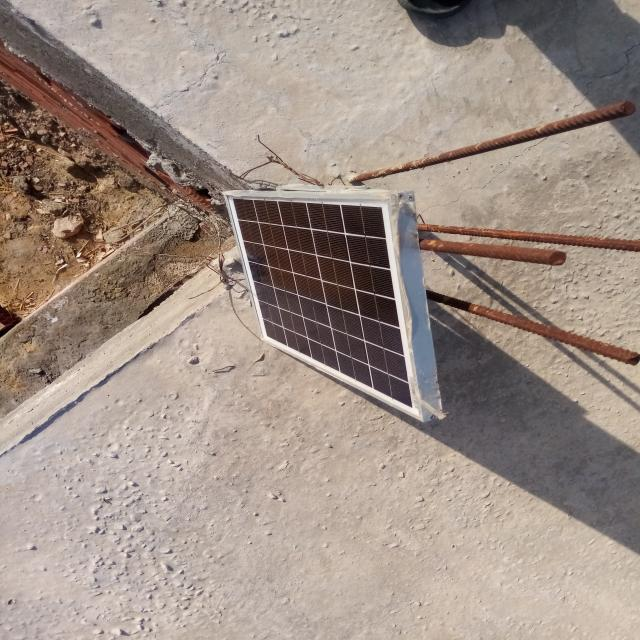no faulty: (224, 193, 422, 420)
